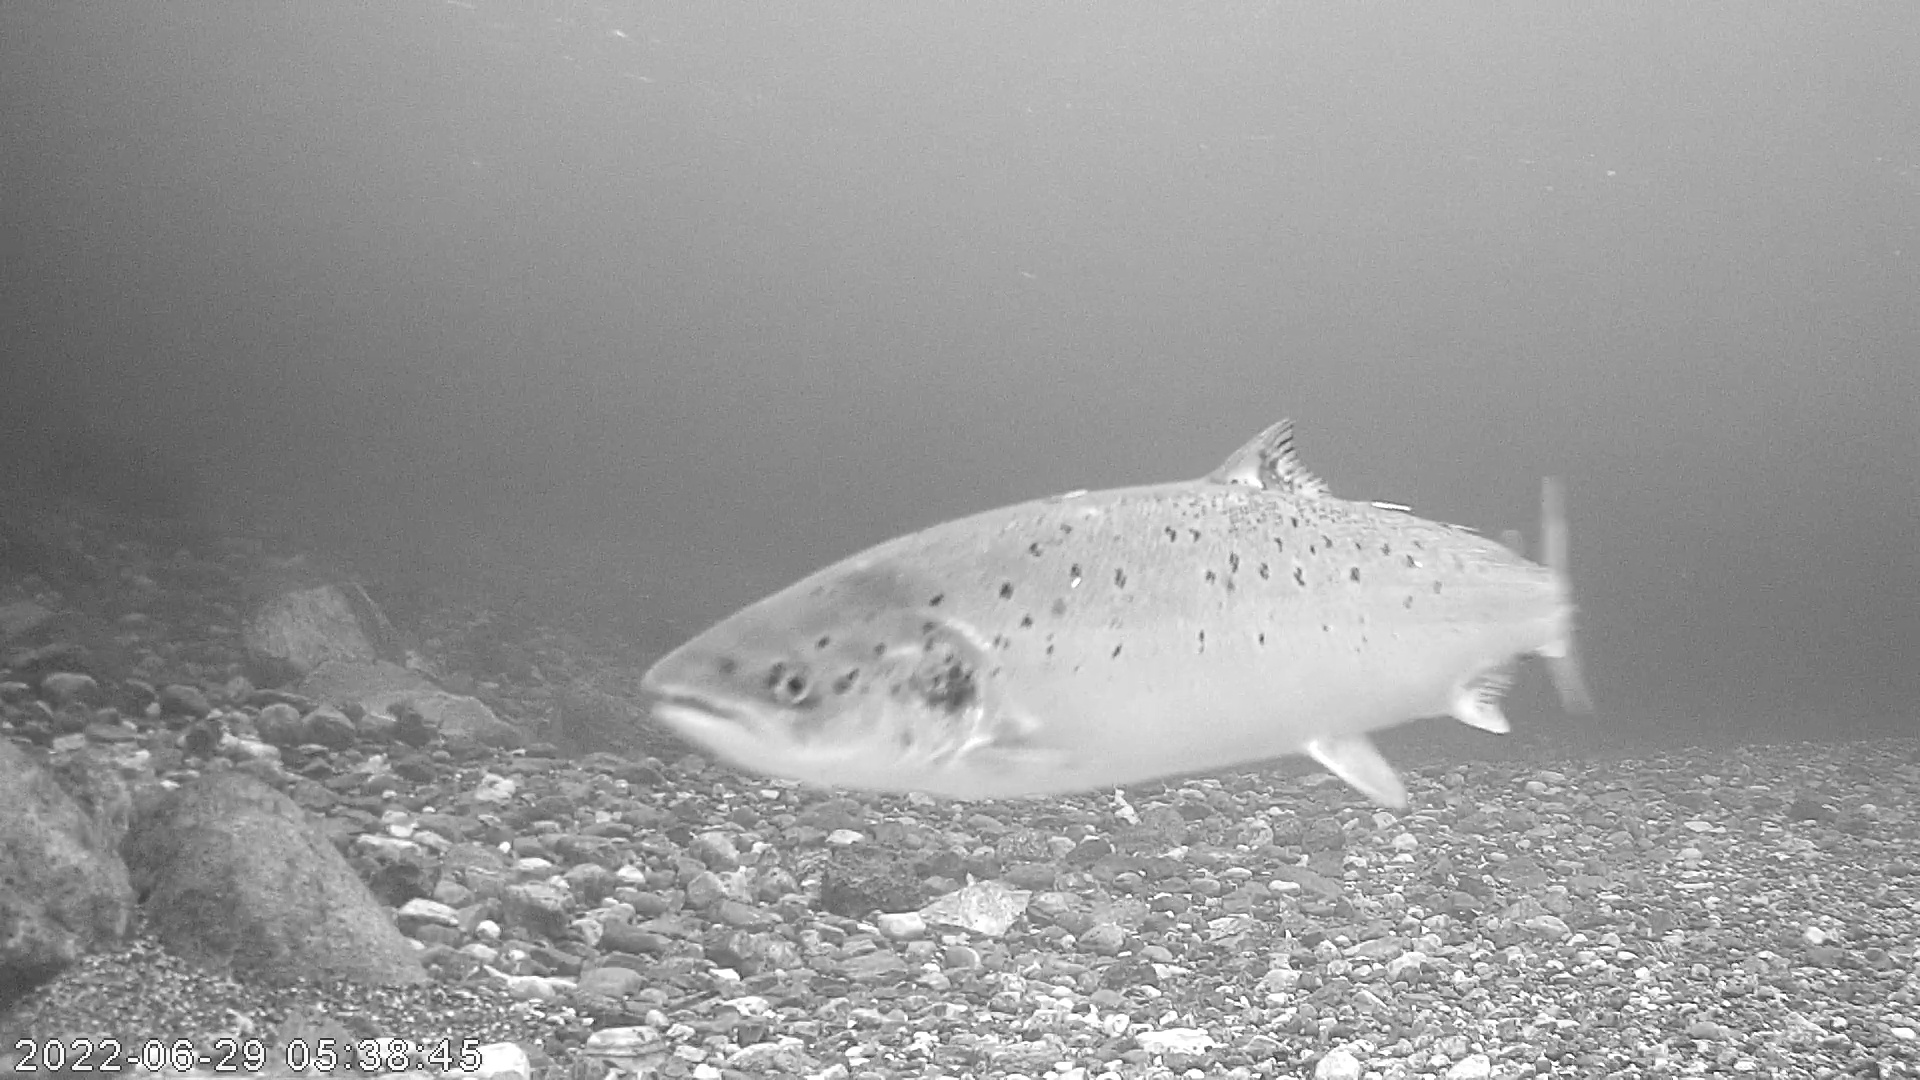salmon: (692, 356, 1578, 795)
